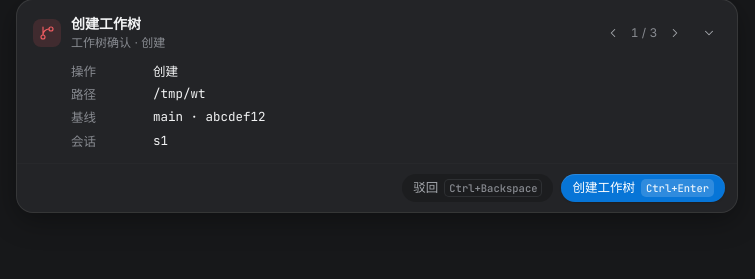
待决坞（ui-redesign 票 04，ADR 0089） › 按 SEVERITY 分页「1 / N」，键位只写在顶卡；翻到别页时 ⌘↵ 仍只裁决顶卡
Expected: the element with class "err" is shown, [33,19,61,47]
Expected: the element named "待决 1/3" shows "/tmp/wt", [153,85,206,102]
翻到第 2 张：阶段盖章，不是顶卡 → 按钮不带键位
Click the button named "下一张" at [675, 33], box [663,21,687,45]
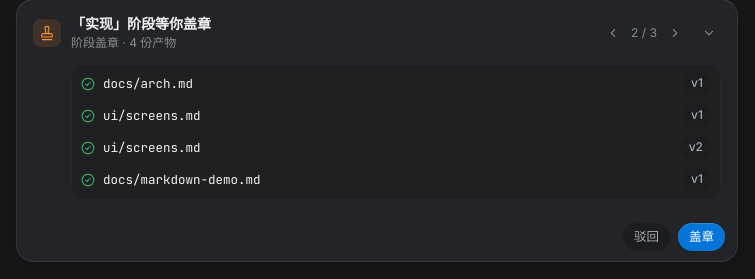
Result: the element named "待决 2/3" shows "2 / 3"
Result: the element named "待决 2/3" shows "「实现」阶段等你盖章" at [71,15,211,32]
Result: the button "Ctrl+Enter" no longer shows "Ctrl+Enter"
